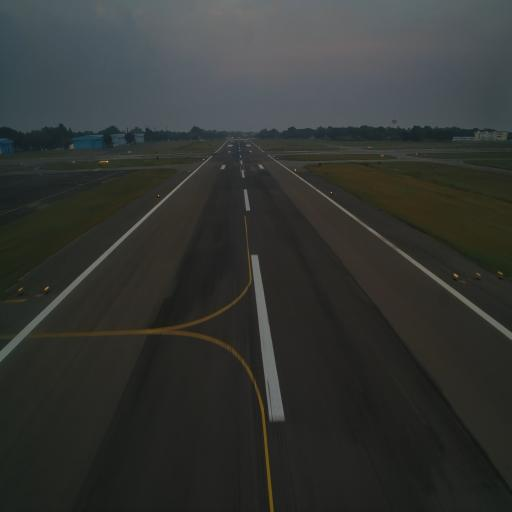on: (474, 266, 484, 282), (498, 267, 505, 283), (43, 284, 51, 294), (451, 270, 459, 280), (18, 285, 25, 295), (329, 189, 335, 197), (156, 190, 160, 198)
